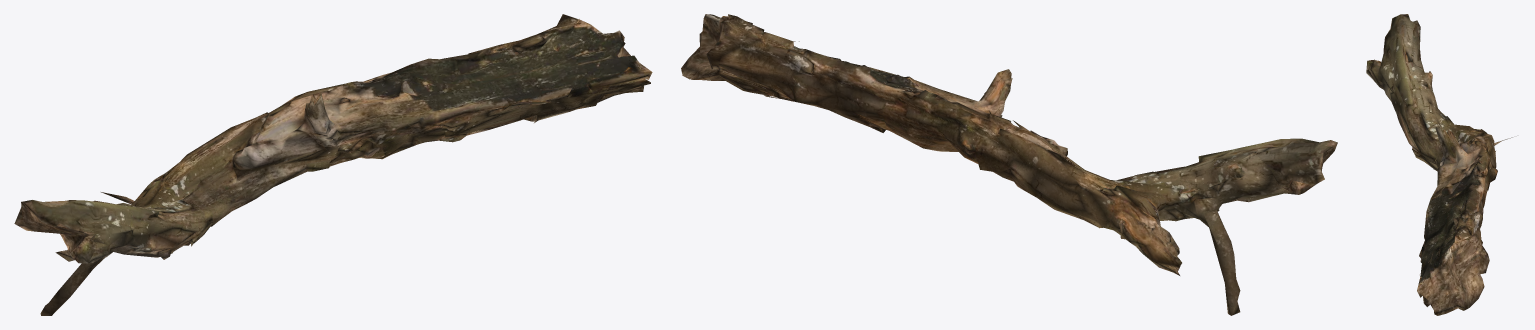
File: dead_tree_trunk_02.glb
The picture shows the model from 3 angles, left to right: view 1: azimuth 30°, elevation 25°; view 2: azimuth 150°, elevation 25°; view 3: azimuth 270°, elevation 25°; orthographic projection. The views are drawn at different scales.
Parts seen in each view (by area): view 1: dead_tree_trunk_02; view 2: dead_tree_trunk_02; view 3: dead_tree_trunk_02.
Boxes of the visible parts, left/top/right/bottom form: dead_tree_trunk_02: left=14, top=14, right=652, bottom=315; dead_tree_trunk_02: left=681, top=14, right=1337, bottom=315; dead_tree_trunk_02: left=1366, top=14, right=1512, bottom=315.
Bounding box in the file's own units: 4.05 × 1.05 × 1.04.
Materials: 1 (1 with a texture image).
